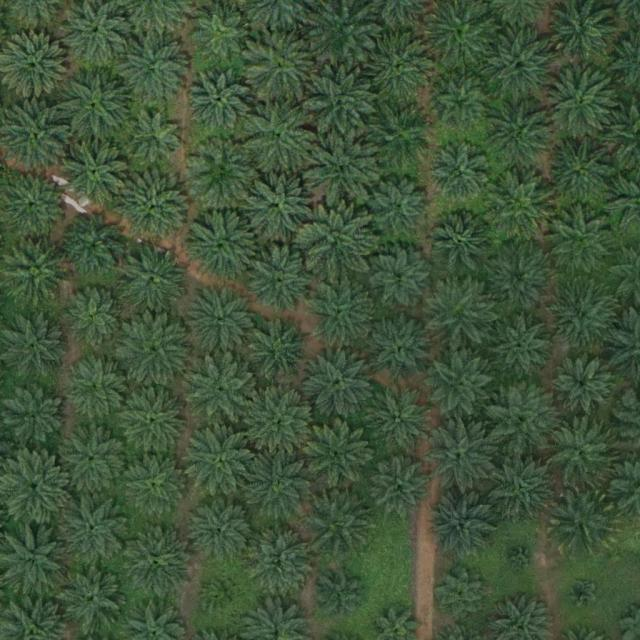Healthy: (60, 69, 131, 140), (486, 98, 557, 169), (547, 208, 618, 279), (549, 283, 620, 354), (245, 526, 316, 597), (186, 285, 257, 356), (121, 316, 192, 387), (61, 135, 132, 205), (118, 36, 188, 107), (120, 172, 190, 243), (189, 209, 259, 280), (245, 32, 316, 102), (306, 135, 377, 205), (302, 207, 373, 277), (368, 31, 438, 102), (366, 102, 436, 173), (487, 30, 557, 101), (487, 176, 557, 247), (545, 69, 616, 139), (484, 384, 554, 455), (487, 451, 557, 522), (424, 277, 494, 348), (427, 351, 497, 422), (304, 349, 374, 420), (307, 419, 377, 490), (307, 486, 377, 557), (248, 245, 318, 316), (244, 448, 315, 518), (187, 426, 257, 497), (122, 388, 192, 459), (62, 495, 132, 566), (548, 487, 618, 557), (188, 138, 258, 208), (247, 102, 317, 172), (246, 168, 316, 238), (305, 69, 375, 139), (484, 244, 554, 314), (547, 137, 617, 207), (547, 418, 617, 488), (427, 422, 497, 492), (429, 494, 499, 564), (363, 382, 433, 452), (306, 280, 376, 350), (248, 389, 318, 459), (189, 358, 259, 428), (118, 245, 188, 315), (123, 529, 193, 599), (60, 427, 130, 497), (59, 564, 129, 634), (62, 214, 125, 277), (187, 68, 250, 131), (432, 214, 495, 277), (552, 354, 615, 417), (370, 457, 433, 520), (5, 387, 68, 450), (125, 110, 187, 173), (369, 176, 431, 239), (370, 250, 432, 313), (429, 143, 492, 205), (491, 317, 553, 380), (370, 315, 432, 378), (251, 319, 313, 382), (192, 499, 254, 562), (125, 456, 187, 518), (63, 289, 125, 351), (66, 360, 128, 422), (433, 79, 488, 134), (436, 569, 490, 624), (319, 575, 366, 623)
Small: (205, 577, 244, 617), (508, 543, 539, 575), (567, 578, 598, 610)
